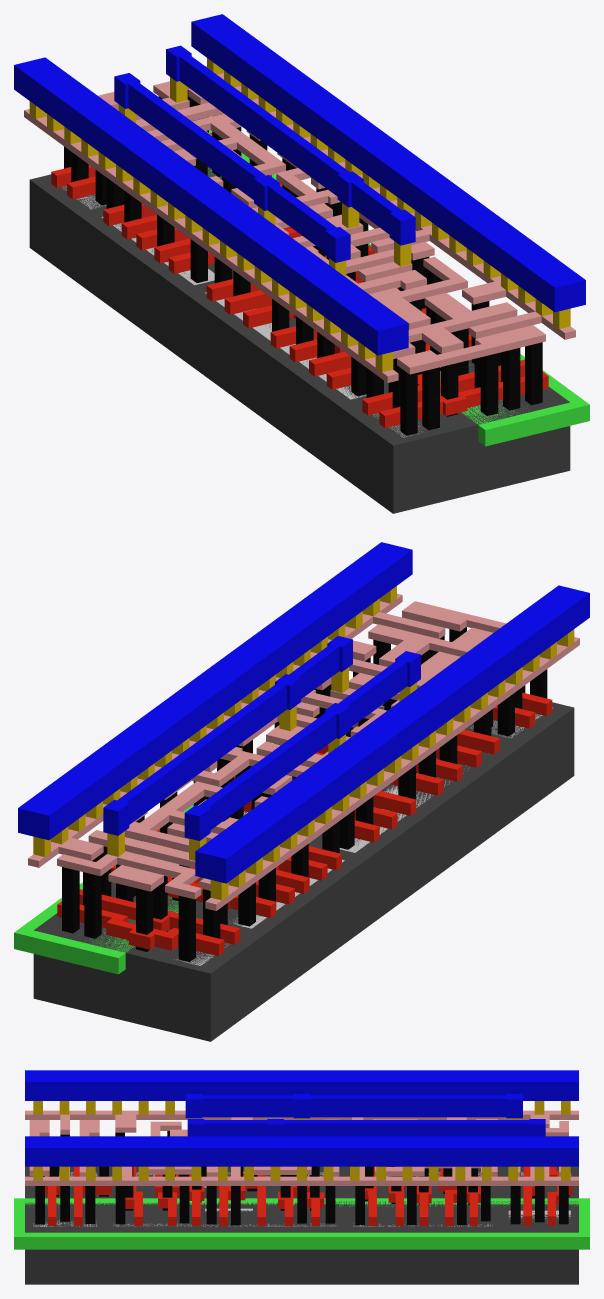
File: sky130_fd_sc_hd__sdfxtp_1.obj
3 views of the same model, one above another, from view 1: azimuth 30°, elevation 25°; view 2: azimuth 150°, elevation 25°; view 3: azimuth 270°, elevation 25° (orthographic). The views are drawn at different scales.
Parts seen in each view (by area): view 1: metal1, subs, li, licon, poly, mcon, nwell, diff; view 2: metal1, subs, li, licon, poly, mcon, nwell, diff; view 3: metal1, subs, nwell, li, licon, poly, mcon, tap.
Boxes of the visible parts, x1,y1,x2,y2 form: metal1: (14, 14, 585, 355); subs: (29, 167, 570, 513); li: (24, 65, 575, 382); licon: (64, 90, 542, 435); poly: (51, 133, 548, 427); mcon: (29, 58, 570, 372); nwell: (208, 130, 589, 446); diff: (62, 186, 422, 437); metal1: (18, 542, 589, 883); subs: (33, 702, 574, 1041); li: (28, 593, 579, 910); licon: (62, 627, 547, 961); poly: (57, 692, 552, 956); mcon: (33, 586, 574, 900); nwell: (14, 706, 383, 974); diff: (174, 707, 552, 965); metal1: (25, 1070, 578, 1166); subs: (25, 1166, 578, 1284); nwell: (14, 1198, 589, 1249); li: (25, 1110, 578, 1185); licon: (35, 1131, 569, 1225); poly: (45, 1166, 572, 1226); mcon: (33, 1101, 570, 1180); tap: (33, 1208, 570, 1226).
Bounding box in the file's own units: 3.2 × 2.74 × 10.04.
